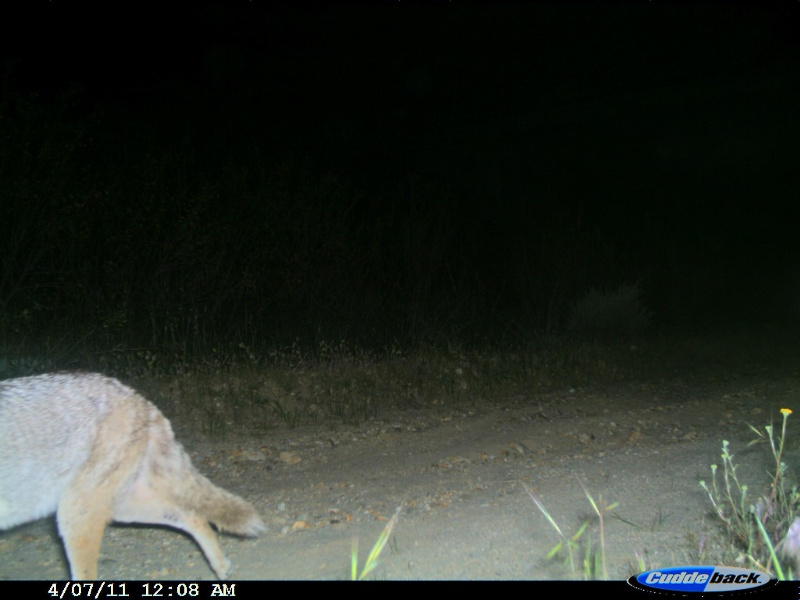coyote: (1, 364, 268, 579)
